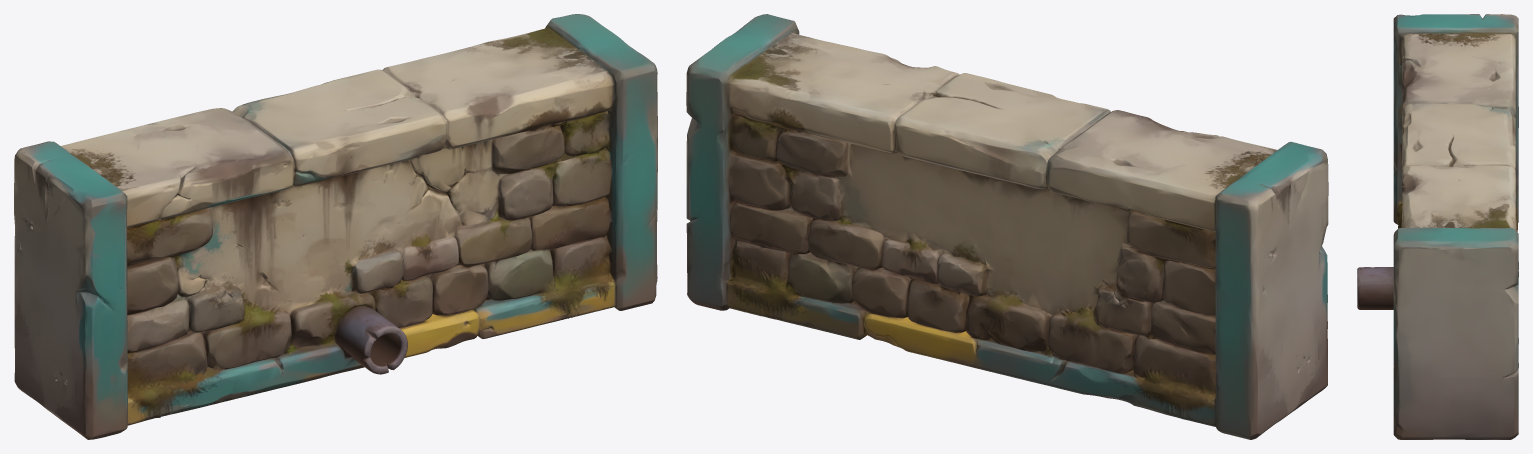
The model's file is arena_wall.glb.
3 renders of one model, left to right at view 1: azimuth 30°, elevation 25°; view 2: azimuth 150°, elevation 25°; view 3: azimuth 270°, elevation 25°, orthographic. The views are drawn at different scales.
Visible parts, largest first — view 1: tripo_node_73d8d158-bc6d-42b1-b277-fa6f4d2f14b5; view 2: tripo_node_73d8d158-bc6d-42b1-b277-fa6f4d2f14b5; view 3: tripo_node_73d8d158-bc6d-42b1-b277-fa6f4d2f14b5.
Boxes of the visible parts, x1,y1,x2,y2 form: tripo_node_73d8d158-bc6d-42b1-b277-fa6f4d2f14b5: (14,14,657,439); tripo_node_73d8d158-bc6d-42b1-b277-fa6f4d2f14b5: (686,14,1328,439); tripo_node_73d8d158-bc6d-42b1-b277-fa6f4d2f14b5: (1357,14,1518,439).
Bounding box in the file's own units: 0.9796 × 0.3918 × 0.2897.
Materials: 1 (1 with a texture image).
